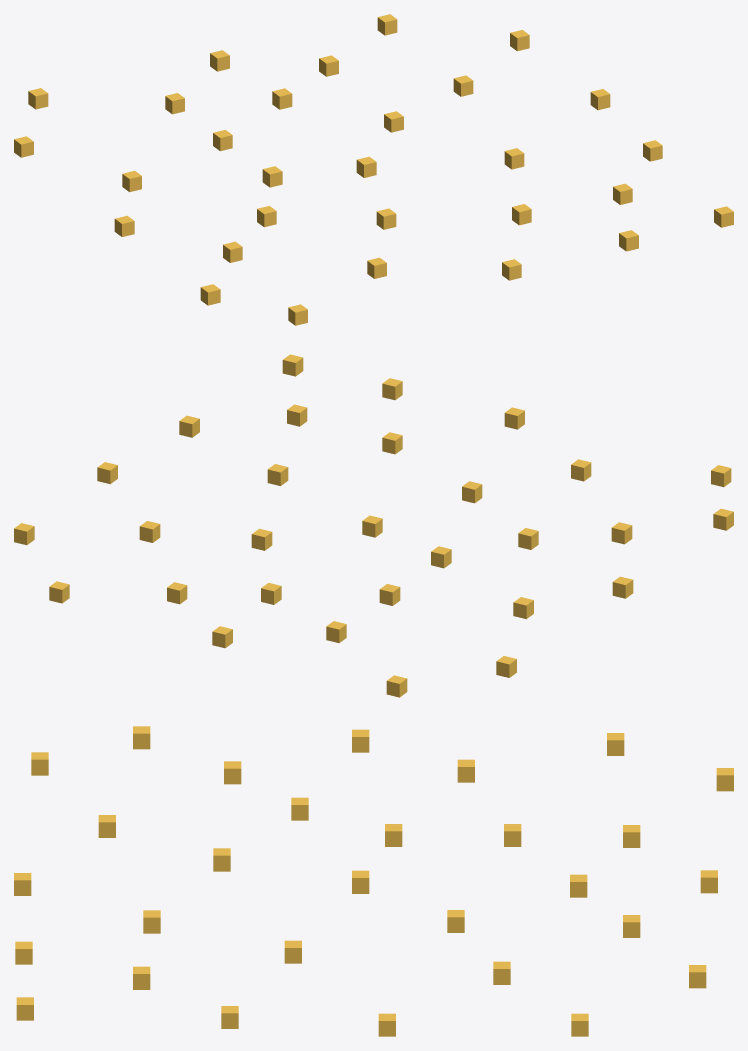
Rendered from Green beans1.fbx.
3 views of the same model, one above another, from view 1: azimuth 30°, elevation 25°; view 2: azimuth 150°, elevation 25°; view 3: azimuth 270°, elevation 25° (orthographic). The views are drawn at different scales.
Parts seen in each view (by area): view 1: 1; view 2: 1; view 3: 1.
Boxes of the visible parts, x1,y1,x2,y2 form: 1: [14, 14, 733, 325]; 1: [14, 354, 733, 697]; 1: [14, 726, 733, 1036].
Size of the model in its own units: 80.61 by 2.01 by 83.21.
